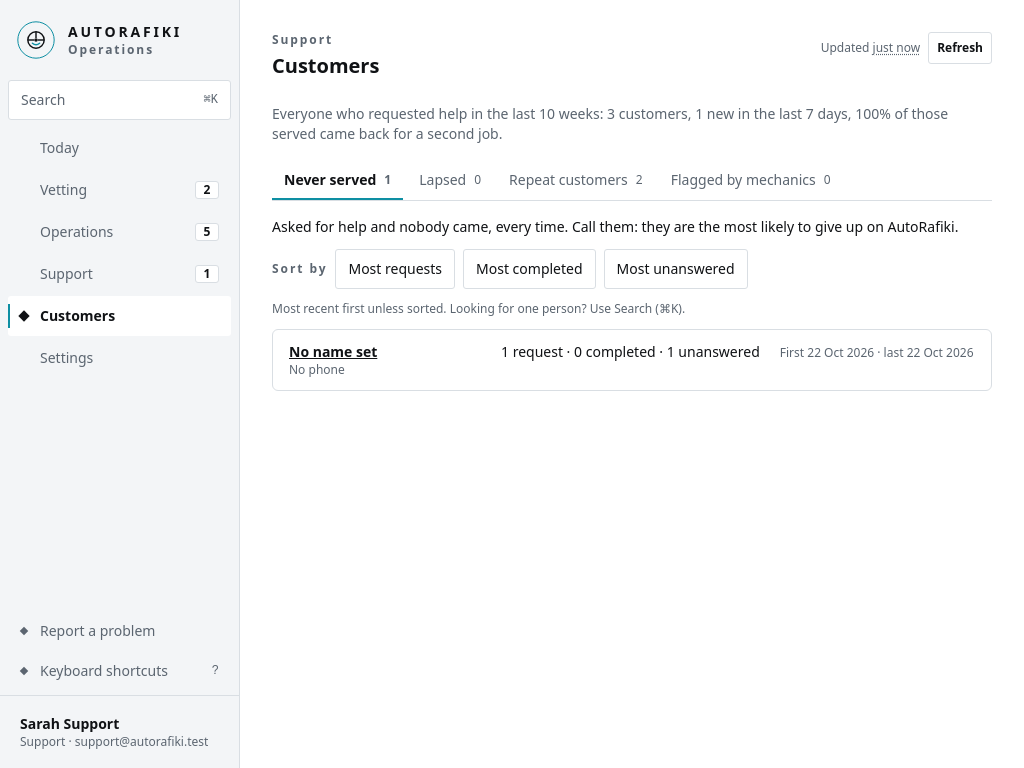
Test: customers page › opens on never-served customers; support can use it
Expected: the list item that starts with "No name set" shows "1 request · 0 completed · 1 unanswered", [273, 330, 991, 390]
What coordinates should you click on to do the following:
click the button "Repeat customers 2"
I would click on:
 (576, 180)
Its box is [497, 160, 655, 200].
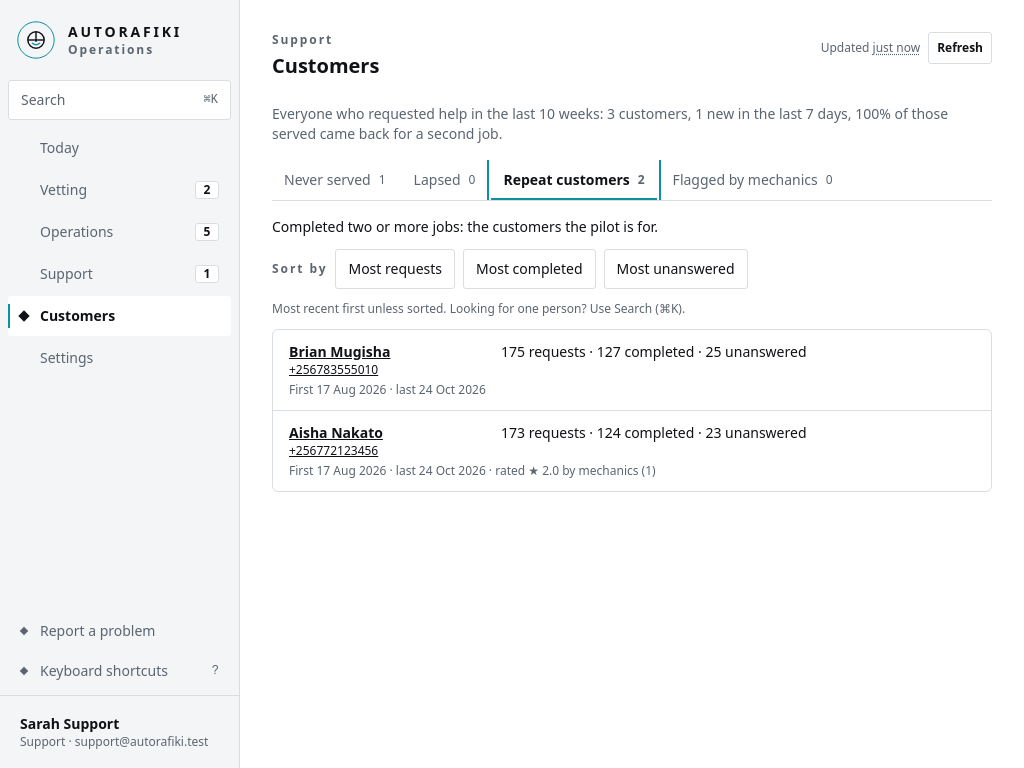
Expected: the link "Aisha Nakato" is shown, [289, 423, 383, 442]
